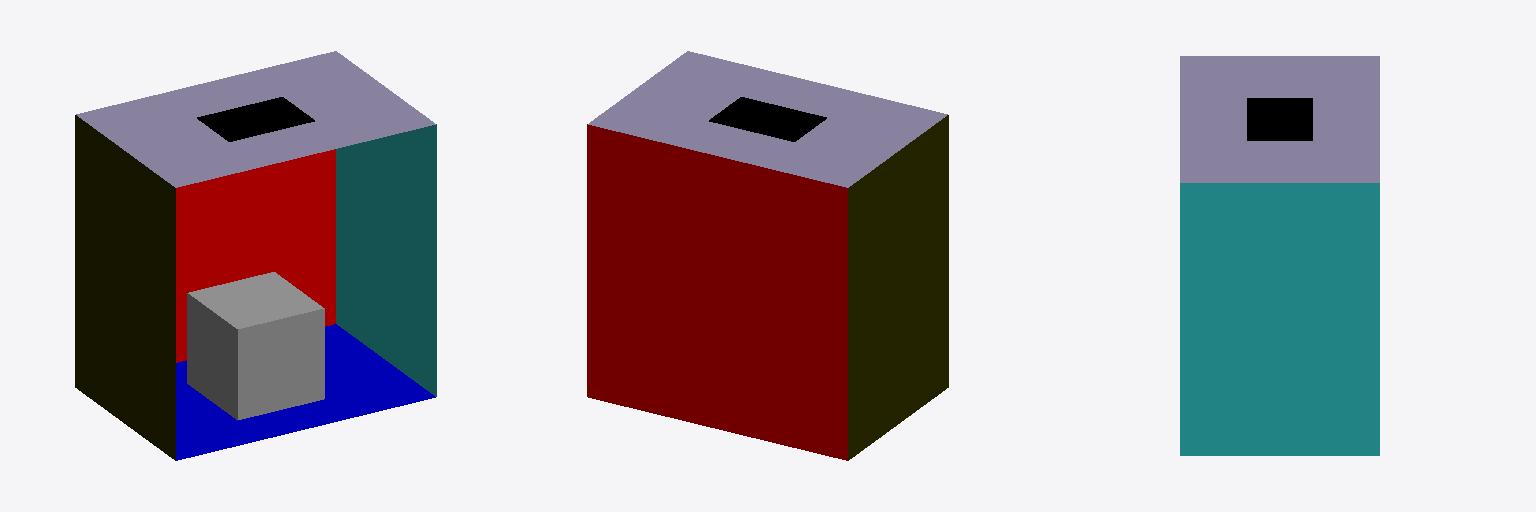
3 views of the same model, side by side, from view 1: azimuth 30°, elevation 25°; view 2: azimuth 150°, elevation 25°; view 3: azimuth 270°, elevation 25° (orthographic).
Visible parts, largest first — view 1: testbox2, Cube_Cube.001; view 2: testbox2; view 3: testbox2.
Part boxes in pixels (x1,y1,x2,y2): testbox2: (75, 51, 436, 460); Cube_Cube.001: (187, 272, 324, 420); testbox2: (587, 51, 948, 460); testbox2: (1180, 56, 1379, 455).
Size of the model in its own units: 3 by 3 by 2.